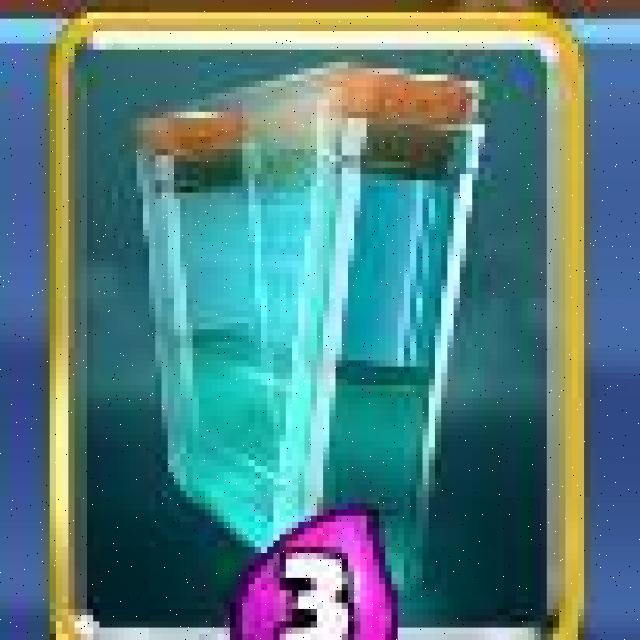Clone_Spell: (45, 9, 585, 640)
